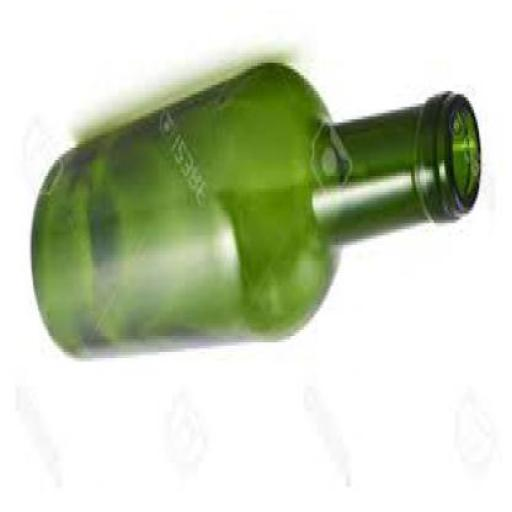glass: (30, 64, 478, 362)
